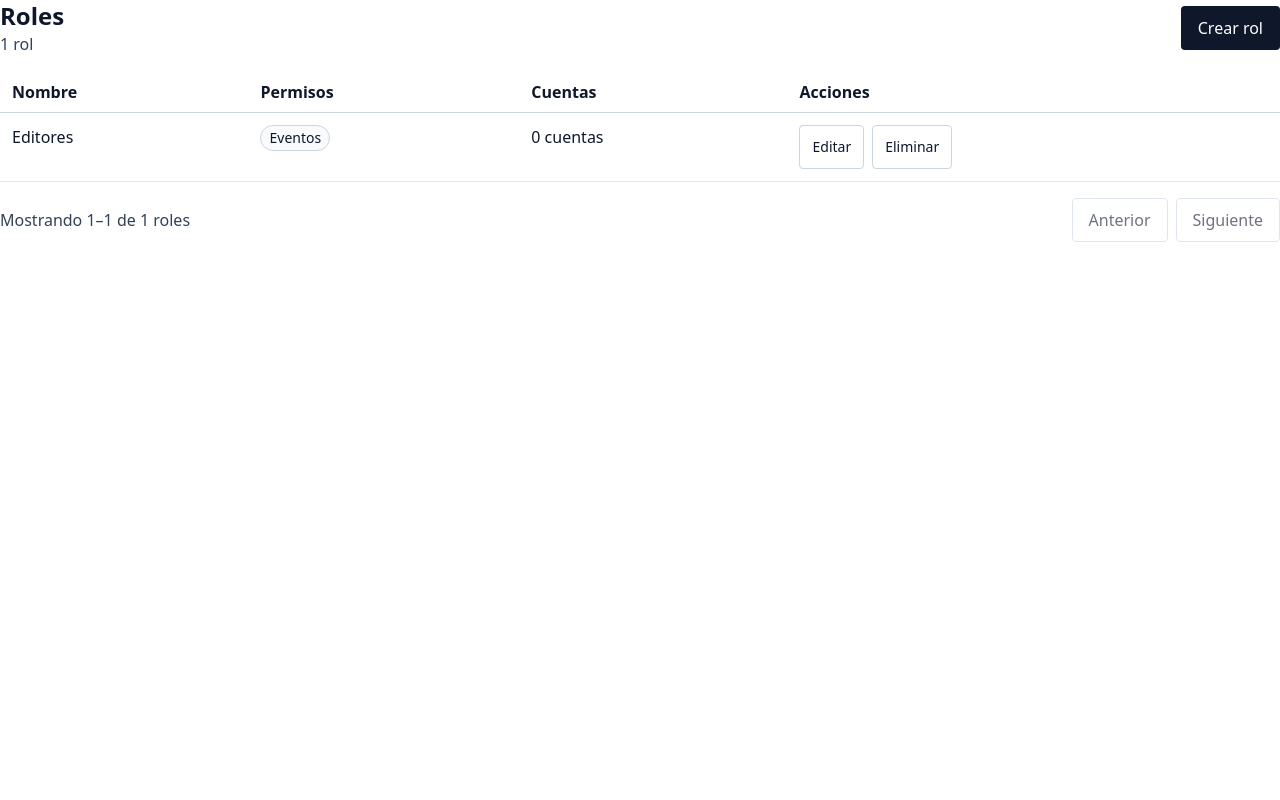
RoleForm · editar › refleja los permisos editados en el listado (FR-018)
Click the button "Editar" at (832, 147), box [800,125,864,169]
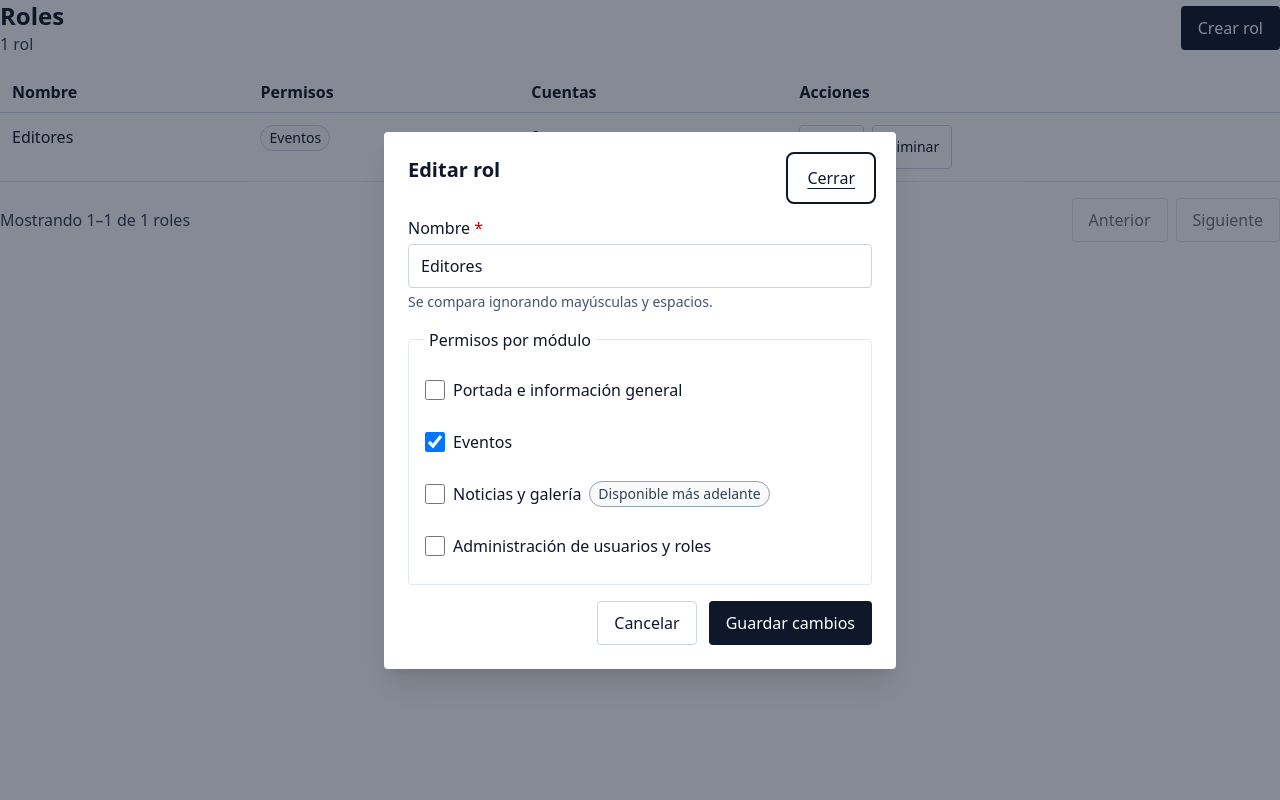
Click the checkbox labelled "Noticias y galería" at (435, 494), box [425,484,445,504]
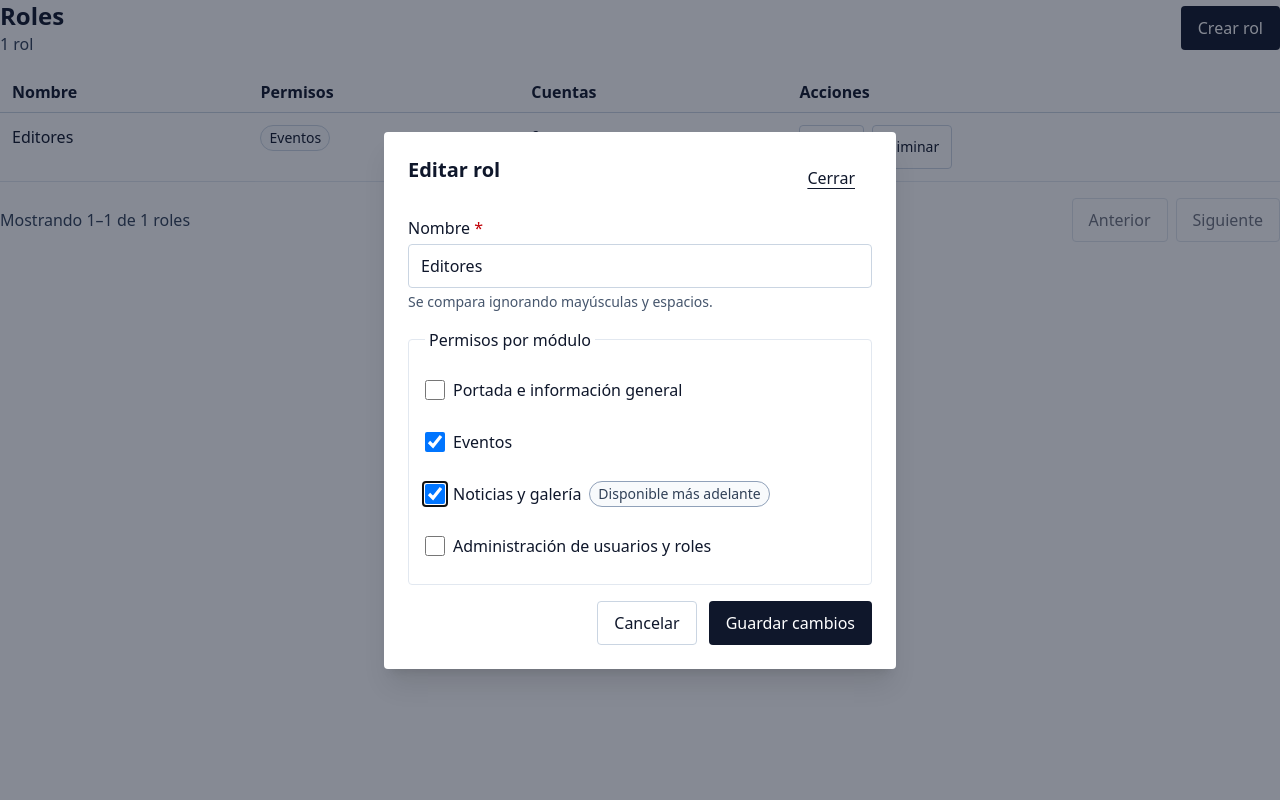
Click the button "Guardar cambios" at (790, 622), box [709,600,872,644]
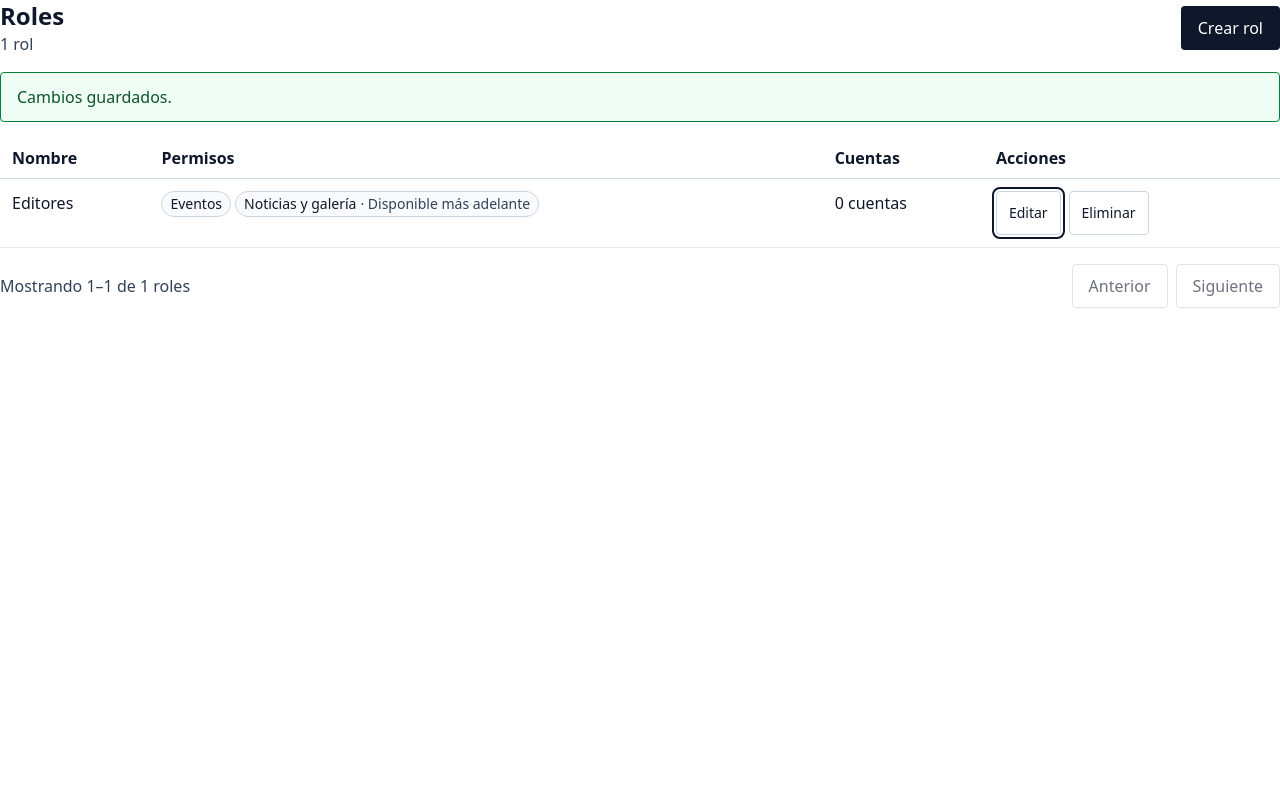
Check: the text "Cambios guardados." is shown, box [0,72,1279,122]
Check: the list item "Noticias y galería" is shown, box [244,194,356,213]
